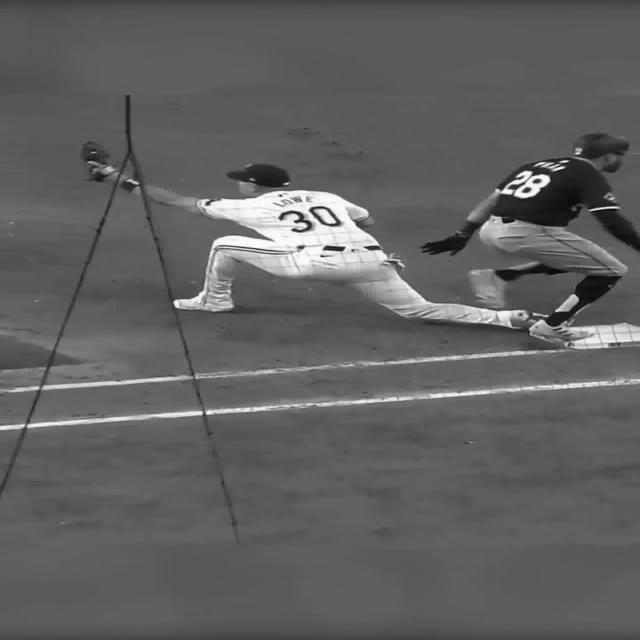base: (565, 322, 640, 350)
baseball_glove: (80, 141, 109, 164), (89, 170, 104, 181)
shoe: (469, 269, 509, 309), (529, 320, 591, 341), (173, 292, 233, 312), (511, 310, 549, 329)
